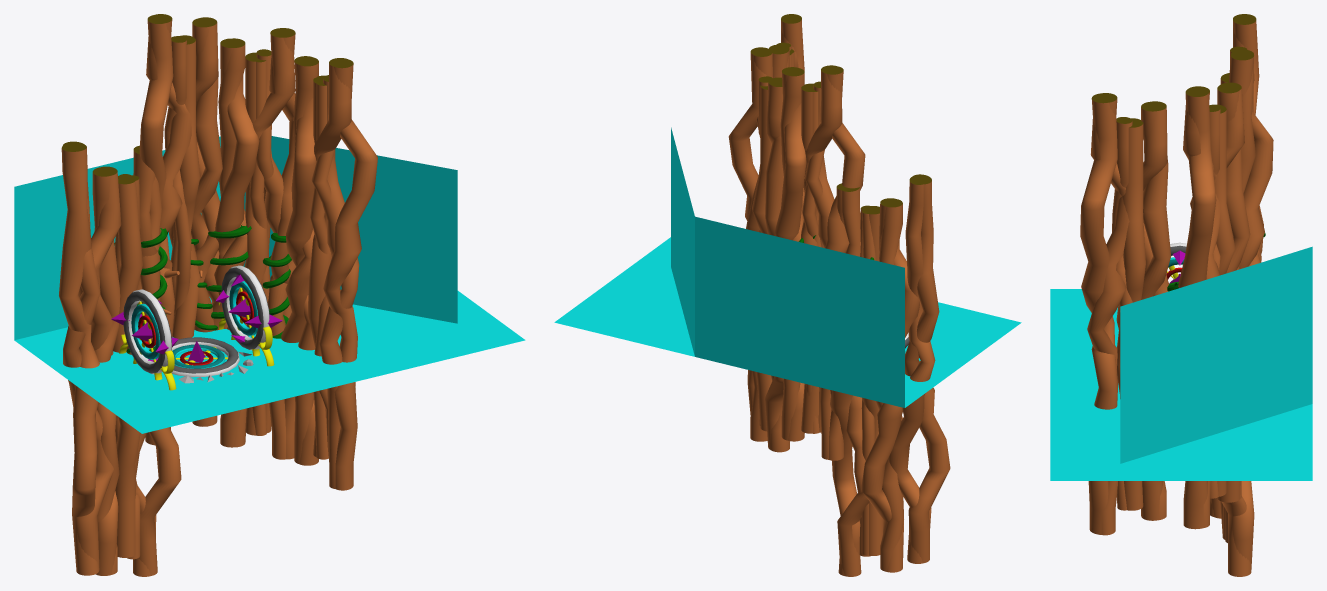
The model's file is GemGameScenev2.fbx.
3 views of the same model, side by side, from view 1: azimuth 30°, elevation 25°; view 2: azimuth 150°, elevation 25°; view 3: azimuth 270°, elevation 25° (orthographic). The views are drawn at different scales.
Visible parts, largest first — view 1: background, pCylinder18, pCylinder38, pCylinder39, pCylinder7, outerring_left (×3), pCylinder37, pCylinder32, pCylinder30, pCylinder24, pCylinder17, pCylinder14 (+21 smaller); view 2: background, pCylinder18, pCylinder19, pCylinder15, pCylinder23, pCylinder16, pCylinder25, pCylinder24, pCylinder14, pCylinder31, pCylinder17, pCylinder33 (+11 smaller); view 3: background, pCylinder38, pCylinder31, pCylinder39, pCylinder40, pCylinder36, pCylinder23, pCylinder33, pCylinder37, pCylinder29, pCylinder32, pCylinder35 (+6 smaller).
Part boxes in pixels (box(x1,y1,x2,y2)): background: box(14, 136, 525, 433); pCylinder18: box(59, 143, 99, 575); pCylinder38: box(323, 59, 377, 490); pCylinder39: box(314, 58, 359, 488); pCylinder7: box(113, 175, 142, 557); outerring_left (×3): box(123, 265, 269, 377); pCylinder37: box(286, 56, 316, 463); pCylinder32: box(252, 28, 295, 459); pCylinder30: box(215, 38, 259, 447); pCylinder24: box(139, 14, 174, 445); pCylinder17: box(136, 147, 181, 575); pCylinder14: box(78, 166, 121, 574); background: box(554, 127, 1021, 407); pCylinder18: box(905, 174, 950, 563); pCylinder19: box(888, 174, 935, 563); pCylinder15: box(861, 198, 903, 572); pCylinder23: box(774, 67, 806, 440); pCylinder16: box(837, 187, 869, 576); pCylinder25: box(805, 65, 842, 459); pCylinder24: box(820, 66, 865, 460); pCylinder14: box(876, 198, 919, 571); pCylinder31: box(728, 47, 771, 414); pCylinder17: box(830, 183, 860, 575); pCylinder33: box(765, 77, 783, 449); background: box(1050, 246, 1312, 480); pCylinder38: box(1080, 93, 1117, 534); pCylinder31: box(1178, 87, 1216, 529); pCylinder39: box(1087, 93, 1129, 535); pCylinder40: box(1141, 101, 1171, 520); pCylinder36: box(1116, 118, 1145, 510); pCylinder23: box(1229, 50, 1273, 269); pCylinder33: box(1217, 83, 1250, 502); pCylinder37: box(1143, 101, 1168, 520); pCylinder29: box(1210, 104, 1235, 496); pCylinder32: box(1183, 86, 1220, 527); pCylinder35: box(1112, 117, 1132, 510).
Size of the model in its own units: 1005 by 1368 by 580.
